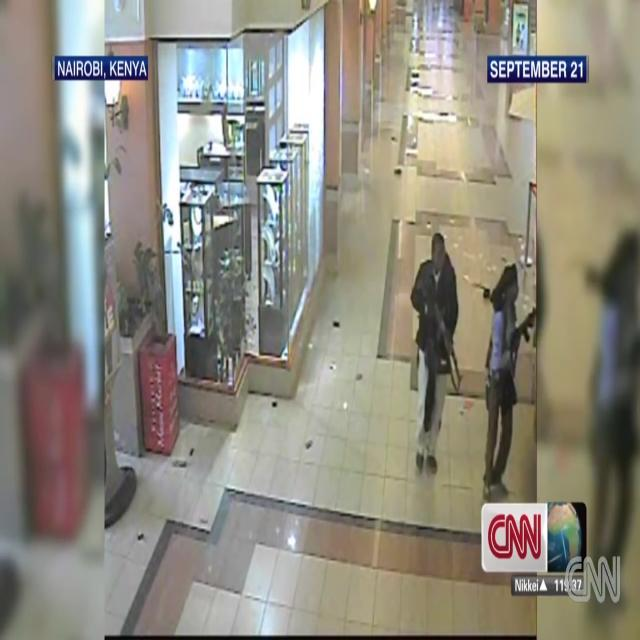Weapon: (419, 279, 470, 396), (504, 298, 544, 358)
